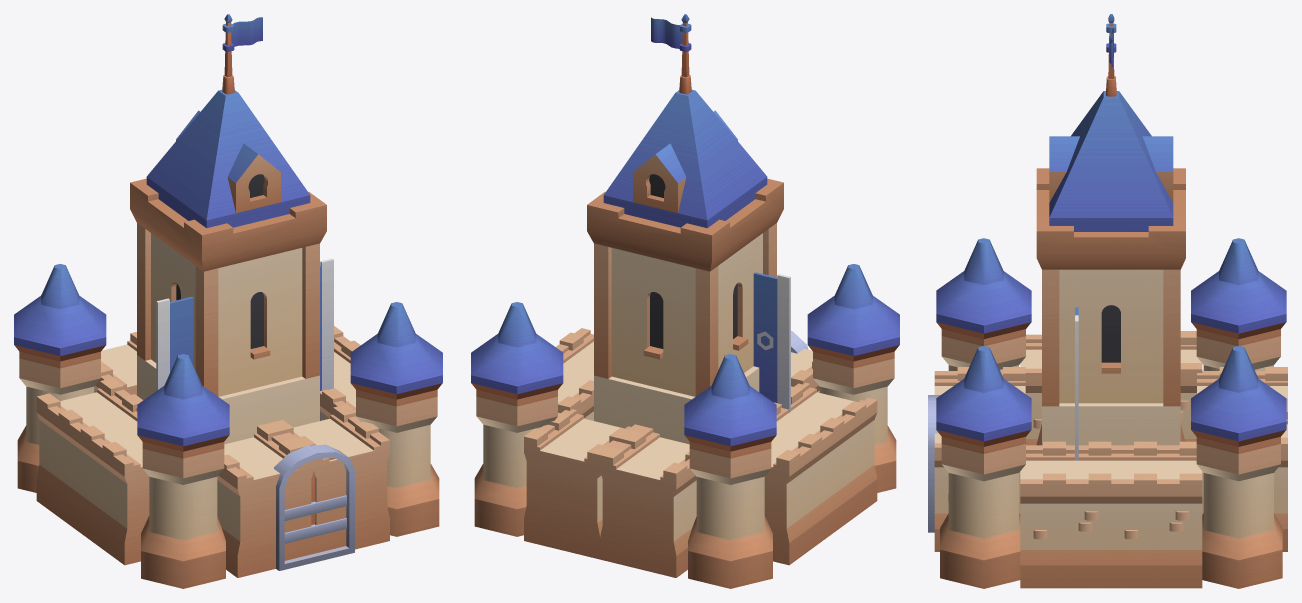
Rendered from keep.glb.
The picture shows the model from 3 angles, left to right: view 1: azimuth 30°, elevation 25°; view 2: azimuth 150°, elevation 25°; view 3: azimuth 270°, elevation 25°; orthographic projection. The views are drawn at different scales.
Visible parts, largest first — view 1: keep; view 2: keep; view 3: keep.
Part boxes in pixels (bbox=[...]): keep: bbox=[14, 14, 442, 588]; keep: bbox=[471, 14, 899, 588]; keep: bbox=[928, 14, 1287, 588].
Bounding box in the file's own units: 2.01 × 3.03 × 1.98.
Materials: 23 (23 with a texture image).
